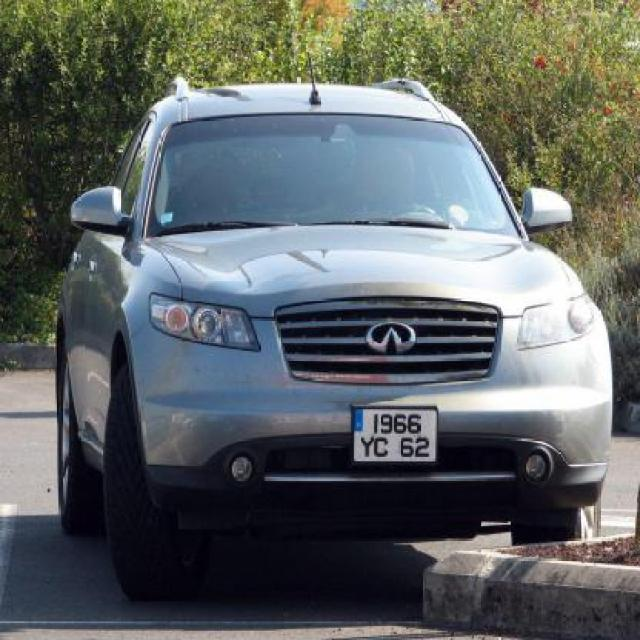License-Plates: (350, 406, 438, 466)
